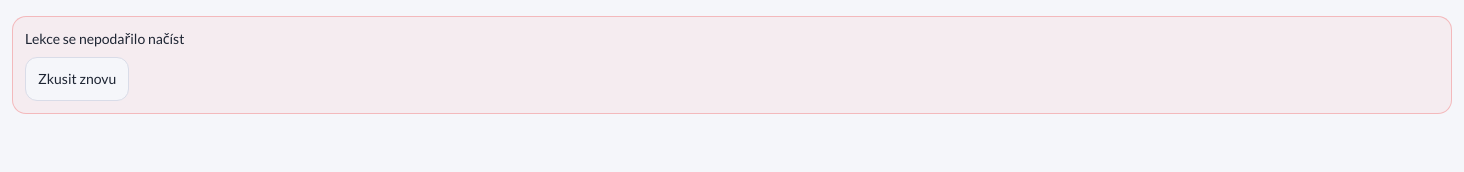
Test: Sdílená cache lekcí pro SearchableSelect › při prvním načtení ukáže skeleton a po chybě umožní opakovat dotaz
Later steps or results of the test are not shown.
Check: the message shows "Lekce se nepodařilo načíst", box [25, 30, 184, 47]
Click the button "Zkusit znovu" at (77, 79), box [25, 57, 129, 101]
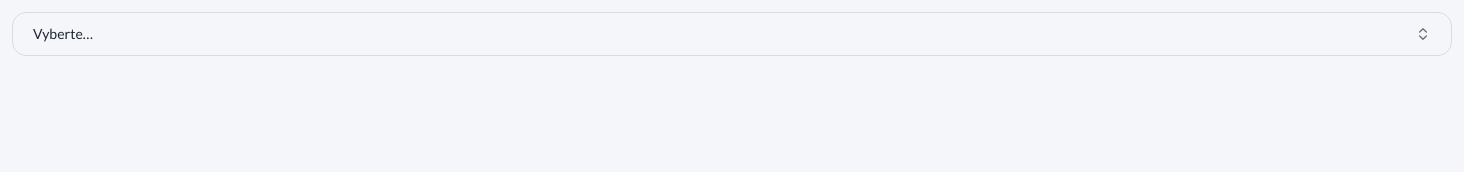
Check: the dropdown named "Lekce pro studijní pomůcku" is shown, box [12, 12, 1452, 56]
